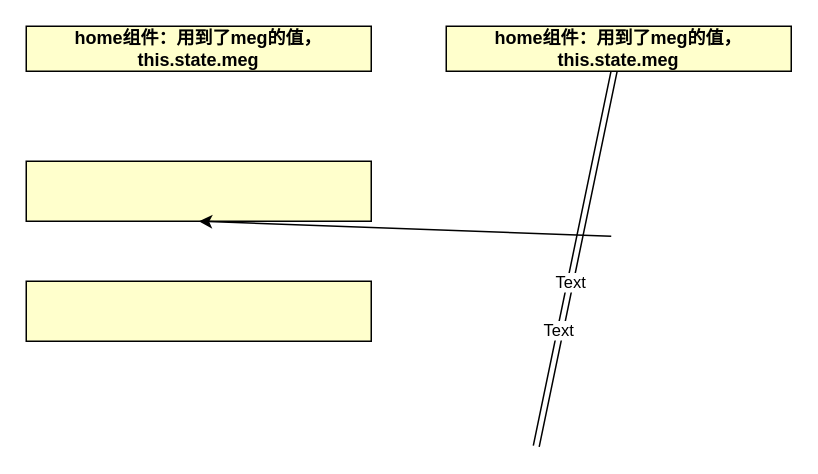
This 818x474 diagram has some shape labels left out. Each missing label, with the centre of its shape:
render函数：渲染了home组件: point 198,310
setState：修改meg值，但还没执行到render函数中: point 198,190
